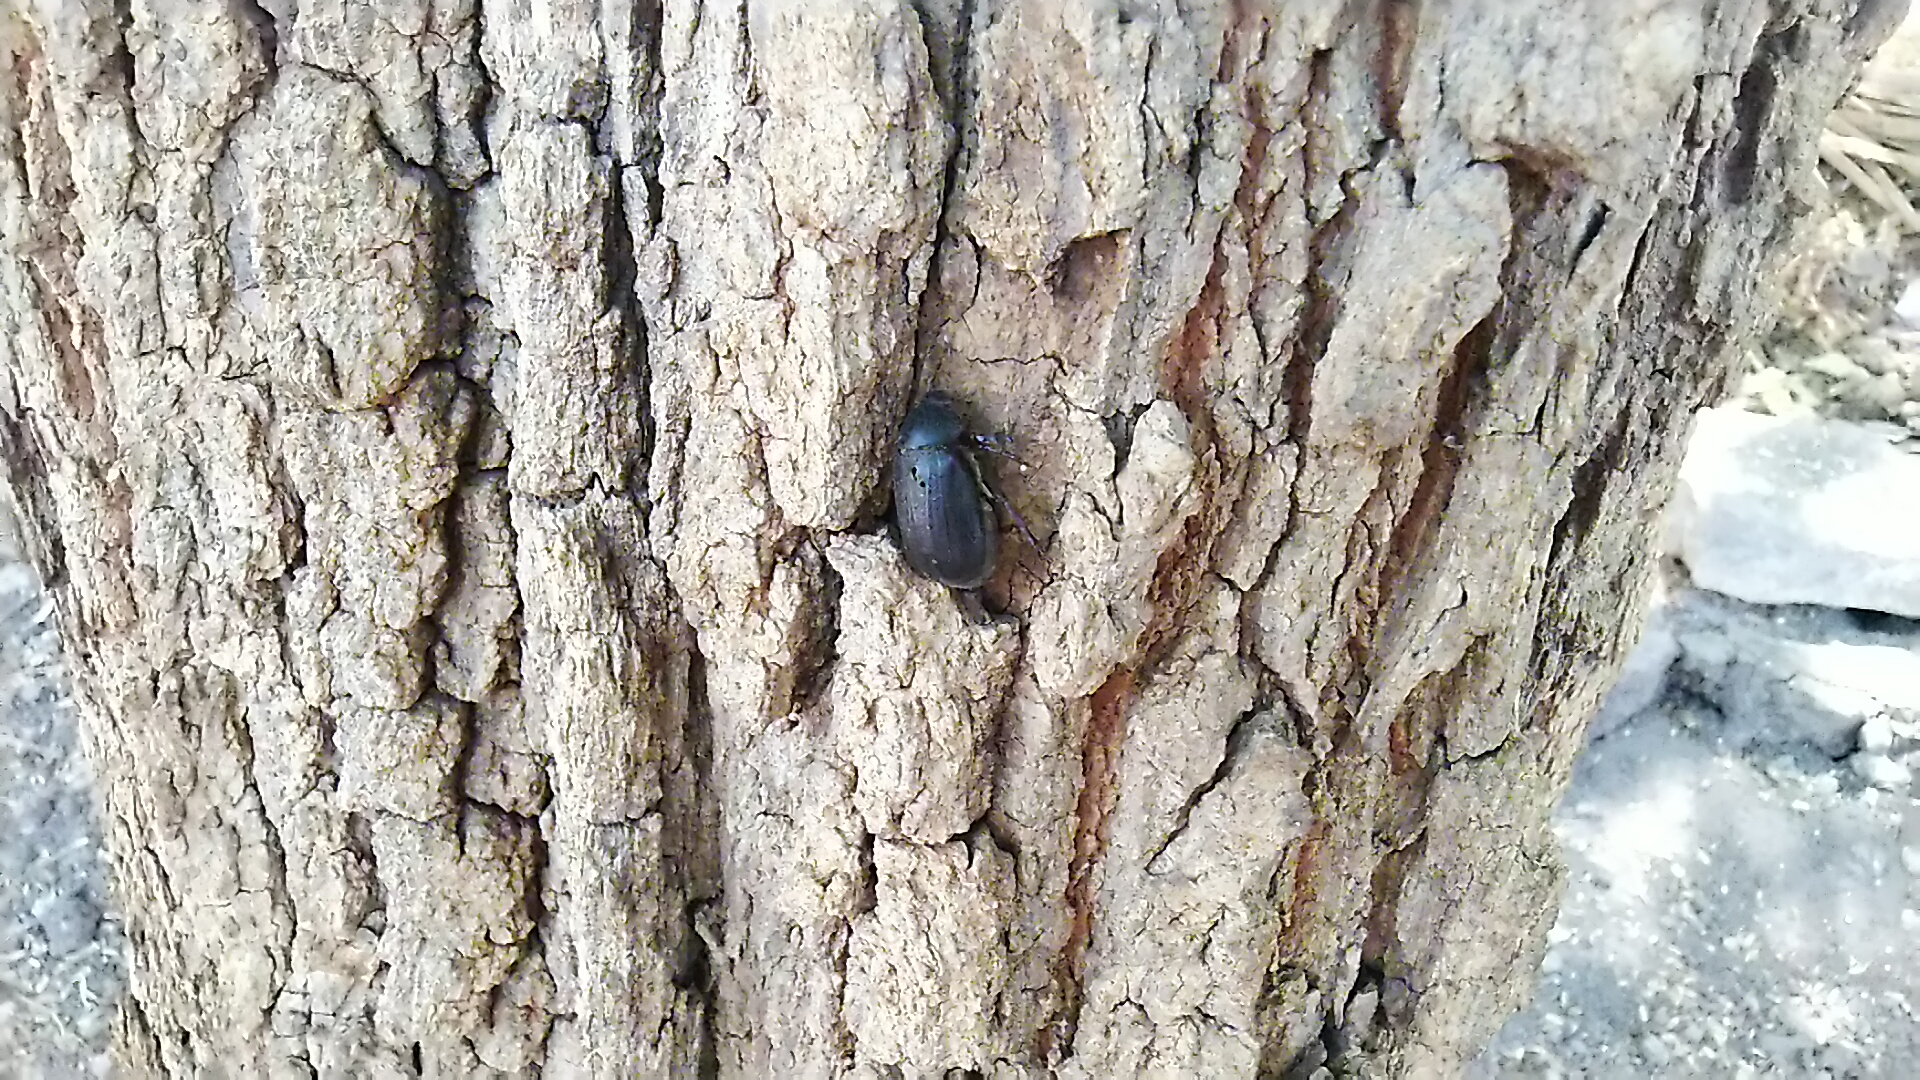INS-A: (881, 378, 1048, 601)
